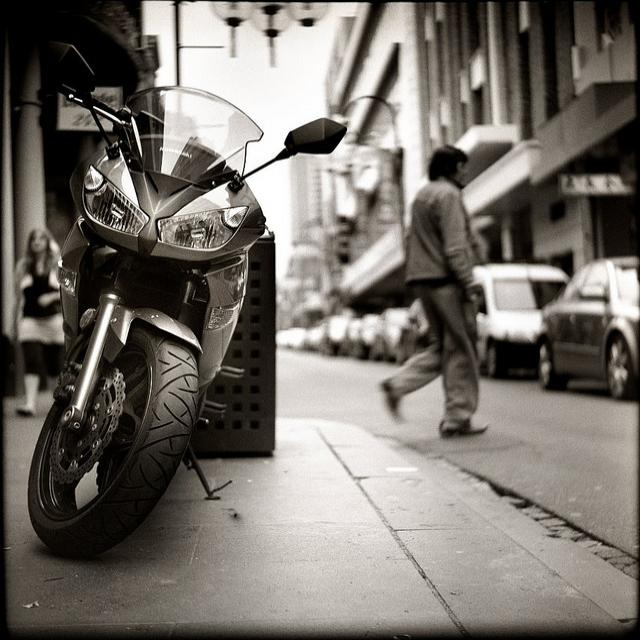motor: (26, 45, 345, 562)
